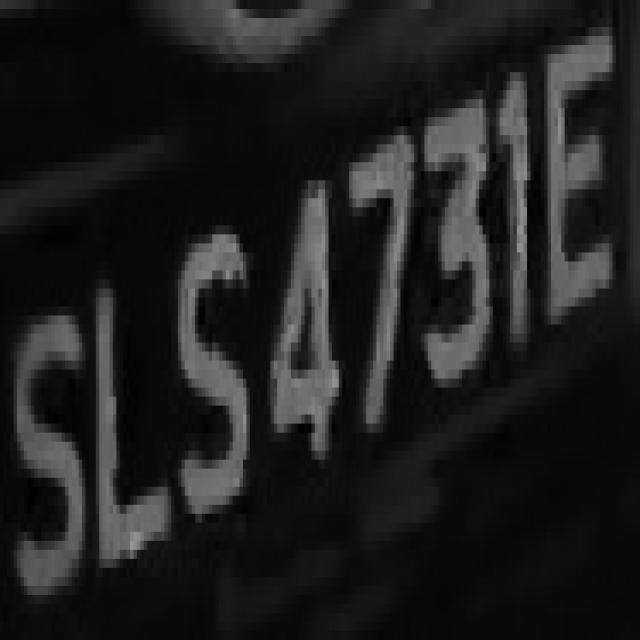1: (503, 36, 537, 397)
3: (404, 81, 489, 415)
4: (256, 135, 346, 496)
7: (332, 126, 424, 487)
E: (537, 36, 630, 361)
L: (86, 234, 171, 595)
S: (168, 216, 256, 532), (10, 279, 89, 613)
